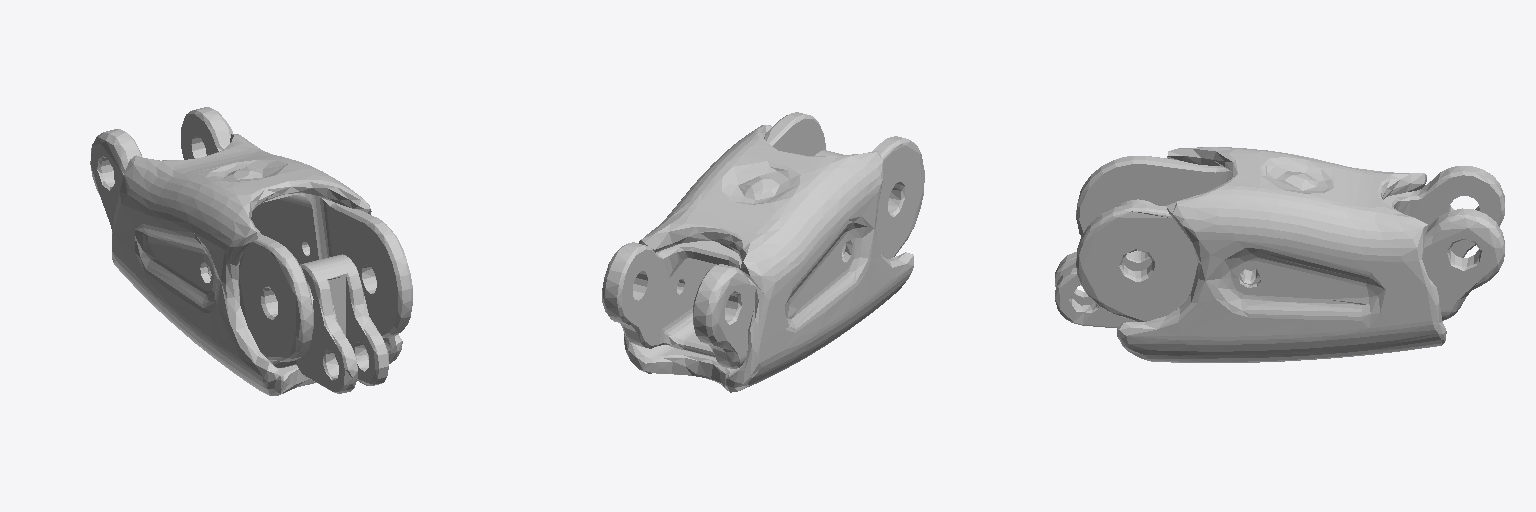
Rendered from R_ring_proximal.obj.
The picture shows the model from 3 angles: view 1: azimuth 30°, elevation 25°; view 2: azimuth 150°, elevation 25°; view 3: azimuth 270°, elevation 25°; orthographic projection.
Parts seen in each view (by area): view 1: R_ring_proximal; view 2: R_ring_proximal; view 3: R_ring_proximal.
Boxes of the visible parts, x1=… form: R_ring_proximal: x1=90, y1=107, x2=412, y2=395; R_ring_proximal: x1=602, y1=112, x2=924, y2=392; R_ring_proximal: x1=1055, y1=147, x2=1504, y2=362.
Size of the model in its own units: 0.016 by 0.019 by 0.0441.